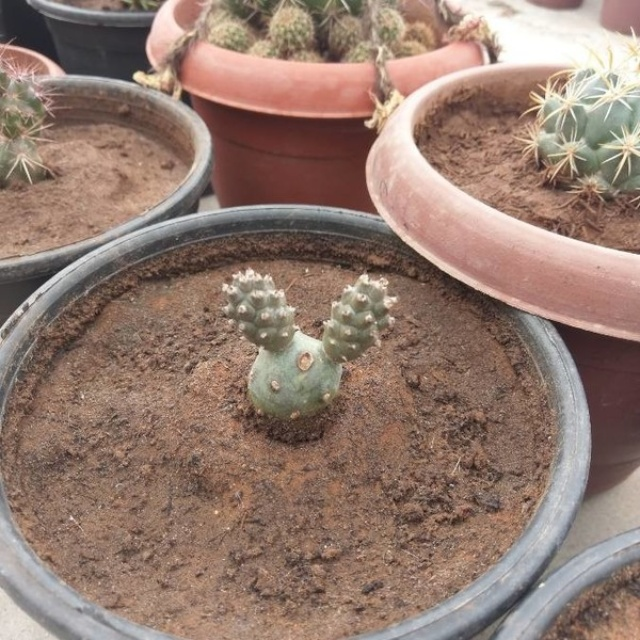obstacle: (1, 206, 586, 635), (400, 33, 626, 339), (123, 0, 473, 146), (9, 28, 229, 226)
